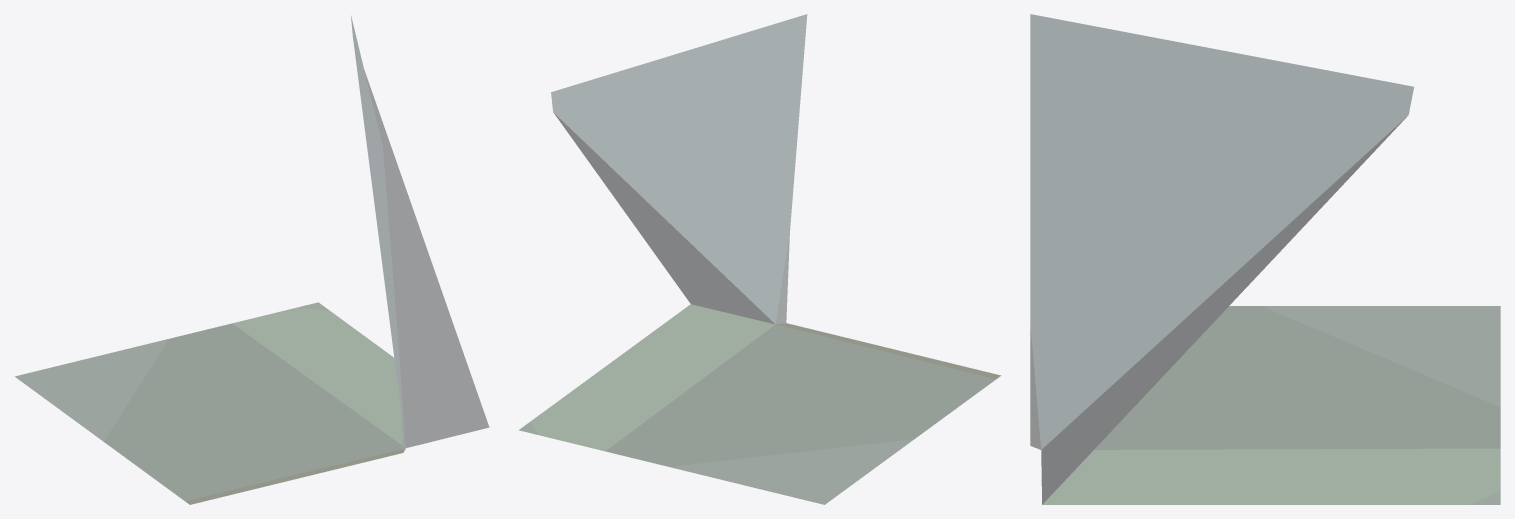
The picture shows the model from 3 angles, left to right: view 1: azimuth 30°, elevation 25°; view 2: azimuth 150°, elevation 25°; view 3: azimuth 270°, elevation 25°; orthographic projection. The views are drawn at different scales.
Bounding box in the file's own units: 0.983 × 0.9637 × 0.983.
1 material, 1 textured.
